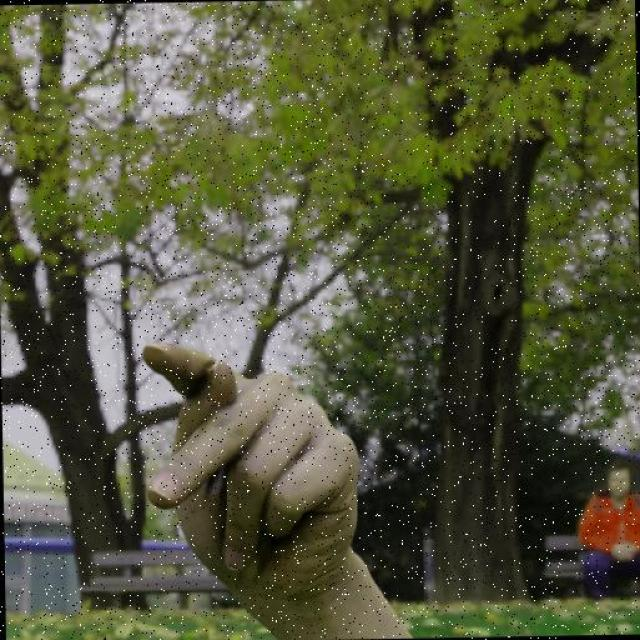P: (135, 338, 365, 608)
